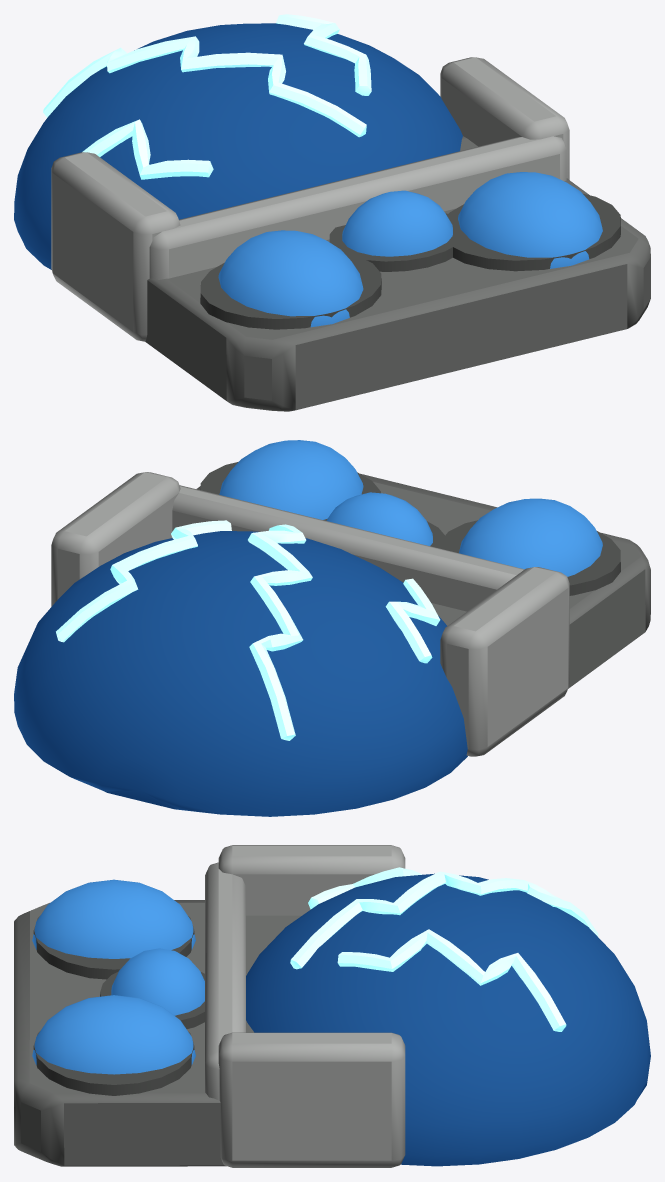
The model's file is store_gun_7.glb.
The picture shows the model from 3 angles, top to bottom: view 1: azimuth 30°, elevation 25°; view 2: azimuth 150°, elevation 25°; view 3: azimuth 270°, elevation 25°; orthographic projection.
Visible parts, largest first — view 1: dome, base, collar, arm_-1, pod_r, pod_l, arm_1, arc_a, pod_c, pod_l_socket, pod_r_socket, arc_c (+2 smaller); view 2: dome, arm_-1, collar, base, arm_1, pod_l, pod_r, arc_a, pod_c, arc_b, pod_l_socket, arc_c (+1 smaller); view 3: dome, base, arm_1, pod_r, pod_l, arm_-1, collar, arc_a, pod_c, arc_b, pod_r_socket, pod_l_socket (+2 smaller).
Part boxes in pixels (x1,y1,x2,y2): dome: (14,23,462,269); base: (145,136,650,411); collar: (149,136,566,279); arm_-1: (51,152,180,341); pod_r: (458,172,602,268); pod_l: (218,230,363,327); arm_1: (440,57,569,179); arc_a: (43,36,366,137); pod_c: (342,190,452,256); pod_l_socket: (200,255,381,329); pod_r_socket: (447,194,620,271); arc_c: (82,119,213,179); dome: (14,531,467,816); arm_-1: (440,567,569,756); collar: (172,485,524,611); base: (196,473,650,688); arm_1: (51,472,180,606); pod_l: (459,498,602,576); pod_r: (219,440,363,519); arc_a: (248,524,312,740); pod_c: (326,492,432,545); arc_b: (56,520,231,642); pod_l_socket: (440,520,620,595); arc_c: (385,578,440,663); dome: (246,873,650,1166); base: (14,900,301,1166); arm_1: (218,1032,405,1167); pod_r: (32,995,195,1074); pod_l: (32,879,195,958); arm_-1: (218,845,405,915); collar: (205,862,245,1100); arc_a: (290,871,598,969); pod_c: (111,948,204,1015); arc_b: (337,929,566,1031); pod_r_socket: (33,1031,194,1095); pod_l_socket: (33,916,194,979).
Bounding box in the file's own units: 21.8 × 8.33 × 28.
